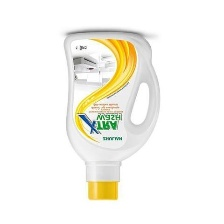cleaning_solution: (59, 26, 164, 204)
